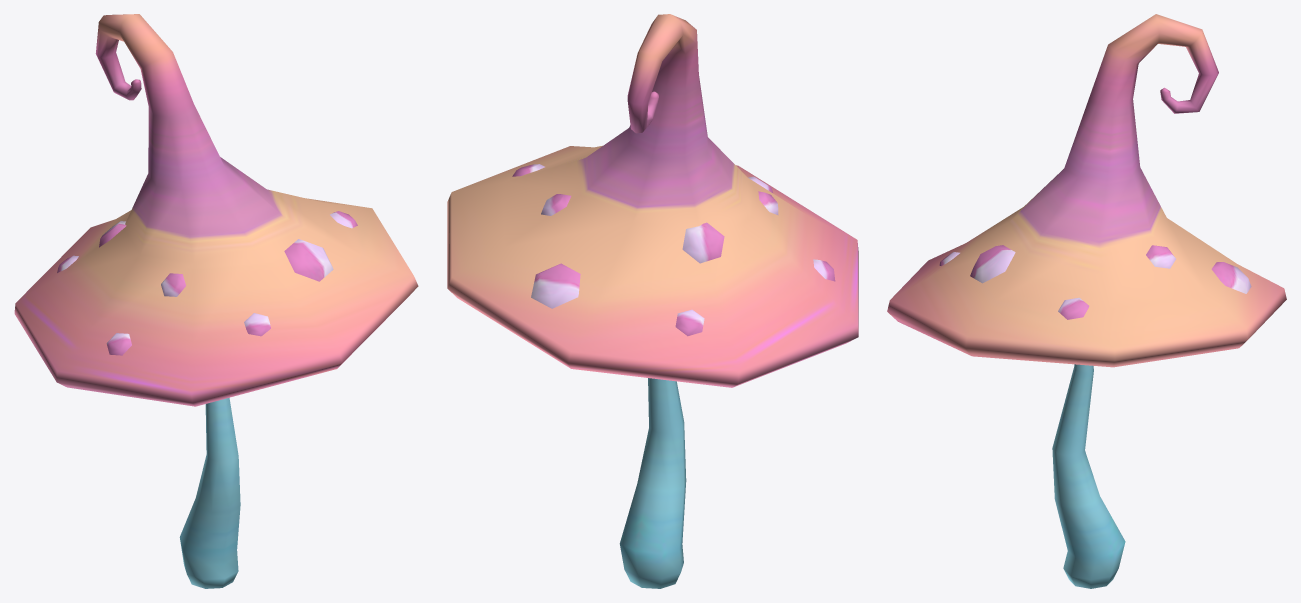
File: grande_peque08.fbx
3 renders of one model, left to right at view 1: azimuth 30°, elevation 25°; view 2: azimuth 150°, elevation 25°; view 3: azimuth 270°, elevation 25°, orthographic. The views are drawn at different scales.
Parts seen in each view (by area): view 1: SetaXS08; view 2: SetaXS08; view 3: SetaXS08.
Part boxes in pixels (box(x1,y1,x2,y2)): SetaXS08: box(14, 14, 418, 588); SetaXS08: box(447, 14, 858, 588); SetaXS08: box(887, 14, 1286, 588).
Bounding box in the file's own units: 613 × 938 × 621.
Materials: 1 (1 with a texture image).
